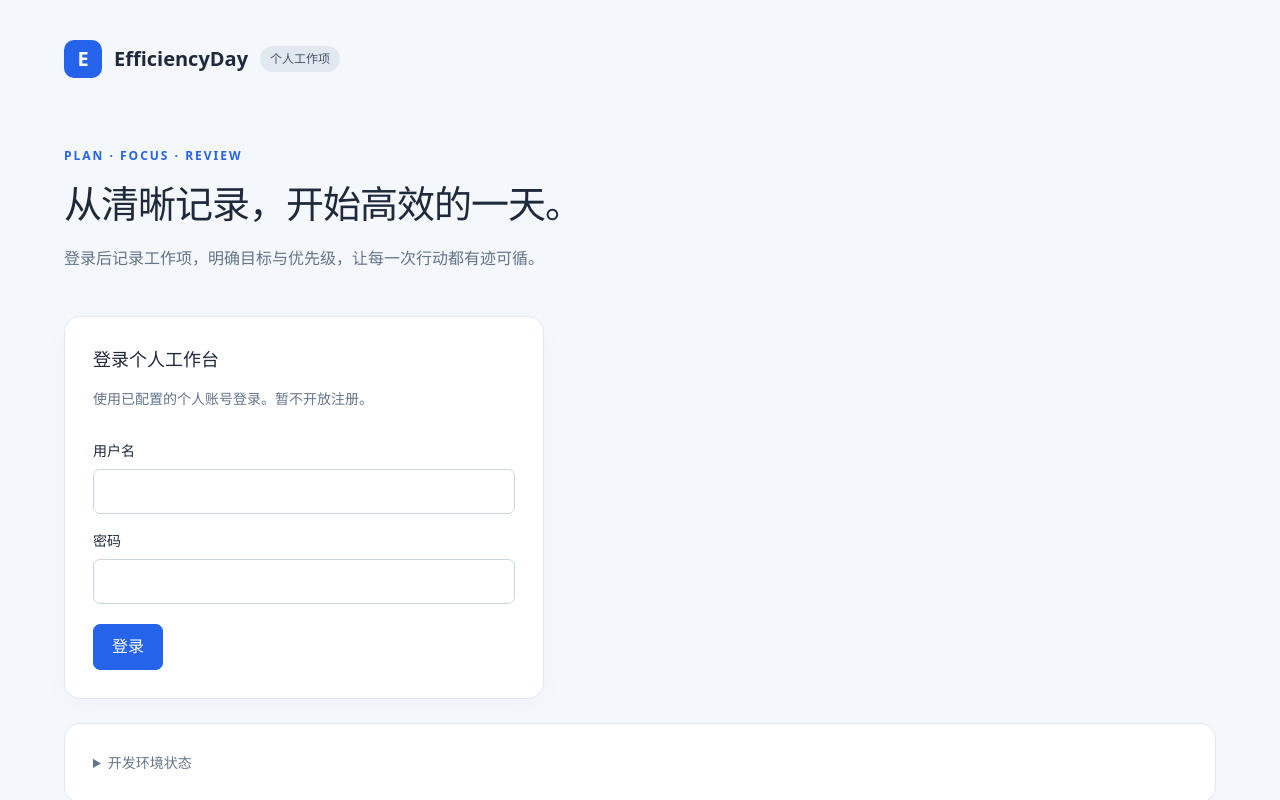
Test case: reports rejected browser cookies after a successful login response
Type "demo" into the field labelled "用户名".
click(304, 491); type("demo")  # box [93,468,515,514]
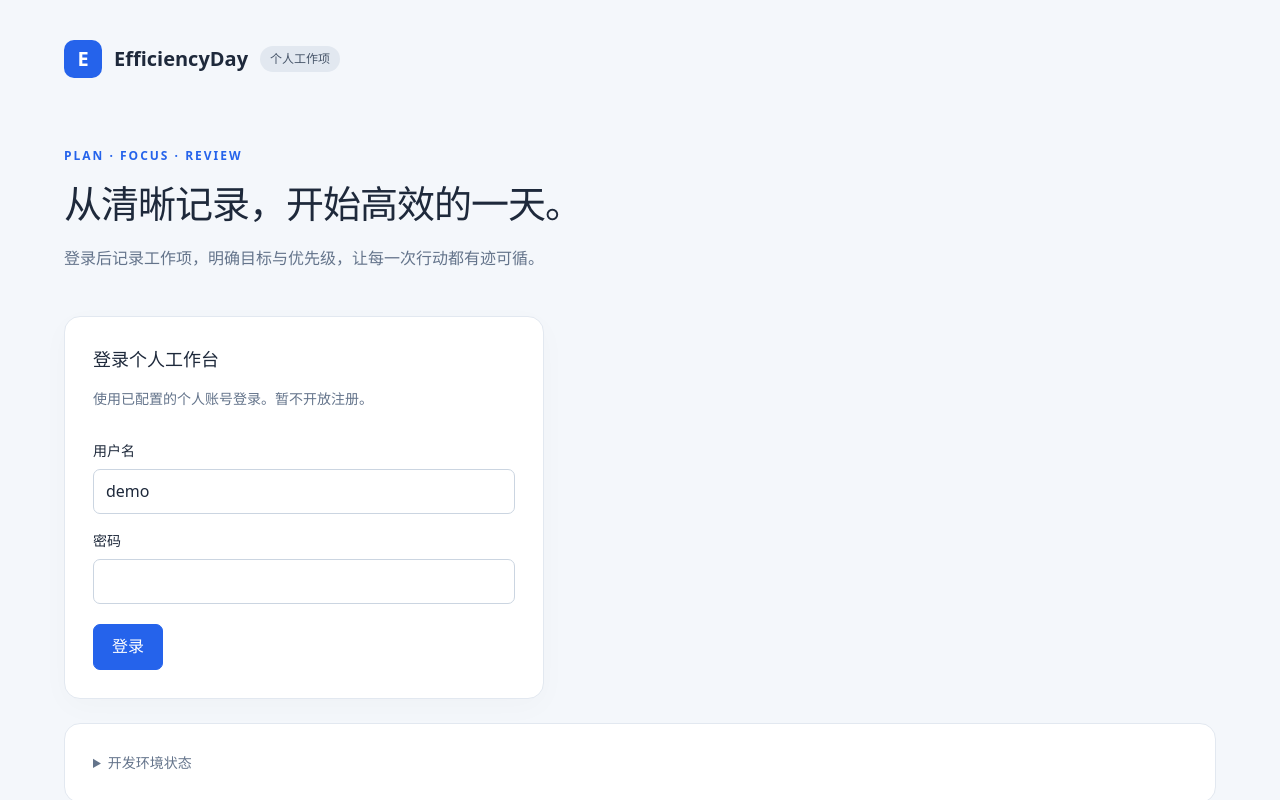
Type "test-password" into the password field labelled "密码".
click(304, 581); type("test-password")  # box [93,558,515,604]
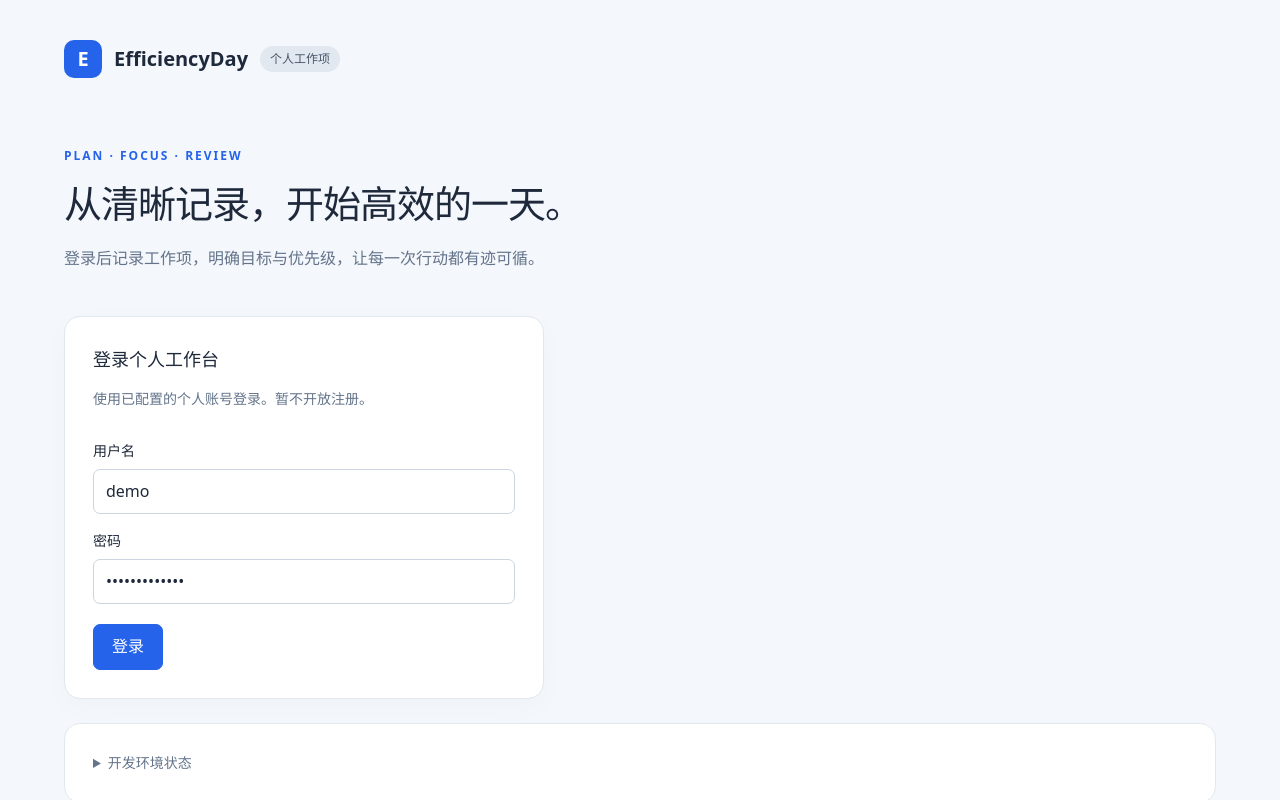
Click the button "登录".
click(128, 647)  # box [93,624,163,670]
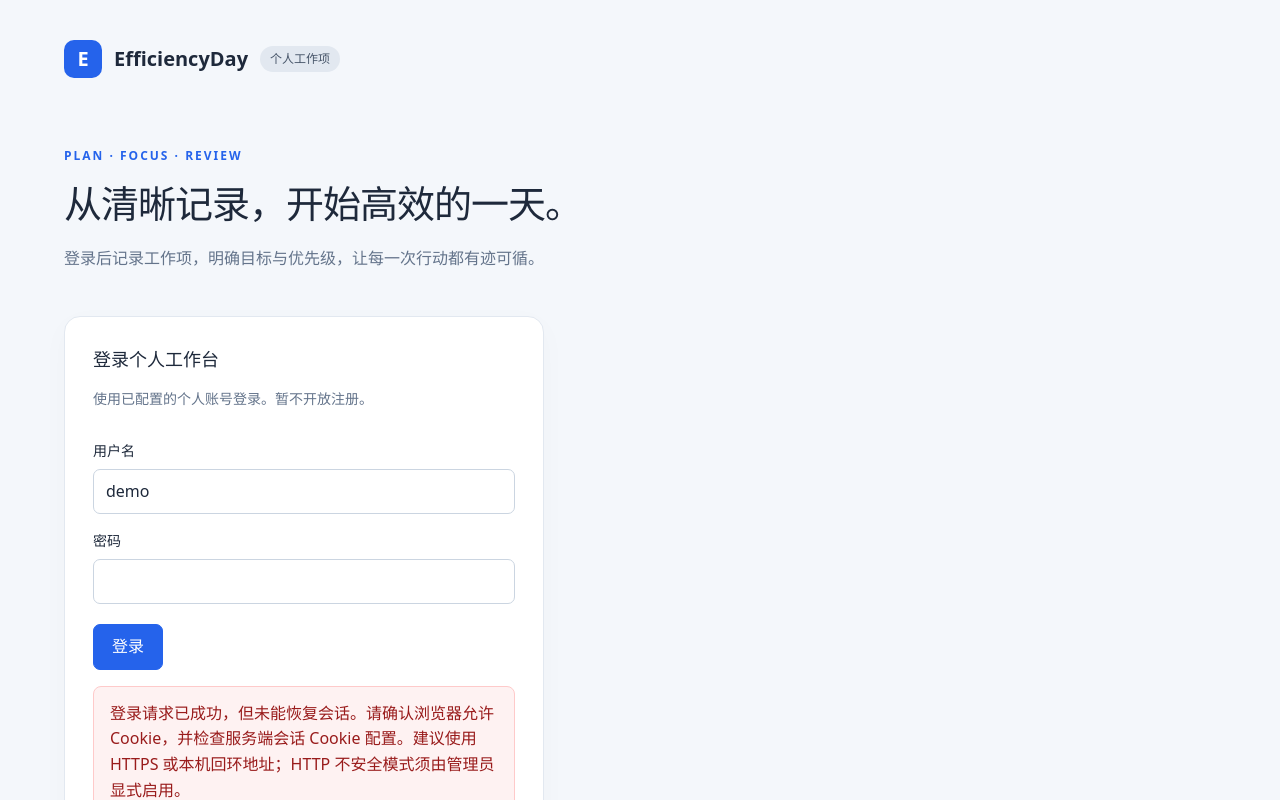
Now the message shows "未能恢复会话", box [110,702,494,799]
Now the message shows "会话 Cookie 配置", box [110,702,494,799]
Now the message shows "不安全模式", box [110,702,494,799]
